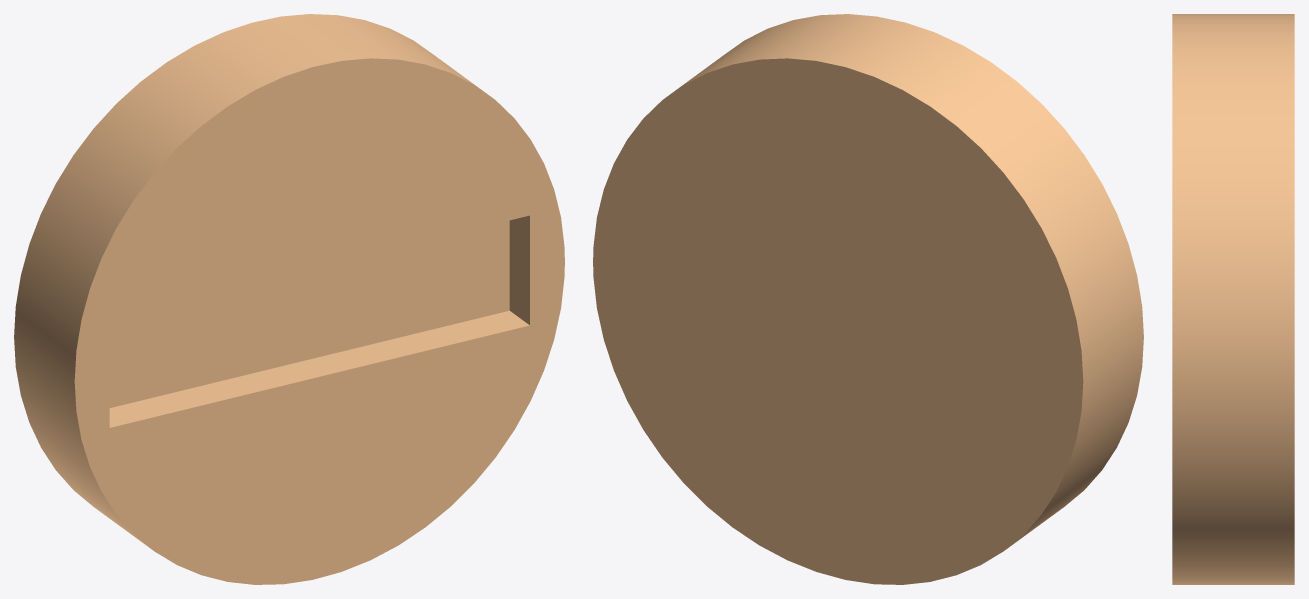
Rendered from tissue_1.obj.
3 views of the same model, side by side, from view 1: azimuth 30°, elevation 25°; view 2: azimuth 150°, elevation 25°; view 3: azimuth 270°, elevation 25° (orthographic).
Parts seen in each view (by area): view 1: mesh 1 tissue_1; view 2: mesh 1 tissue_1; view 3: mesh 1 tissue_1.
Boxes of the visible parts, bbox=[...] form: mesh 1 tissue_1: bbox=[14, 14, 564, 584]; mesh 1 tissue_1: bbox=[593, 14, 1143, 584]; mesh 1 tissue_1: bbox=[1172, 14, 1294, 584].
Size of the model in its own units: 0.14 by 0.1399 by 0.03.
